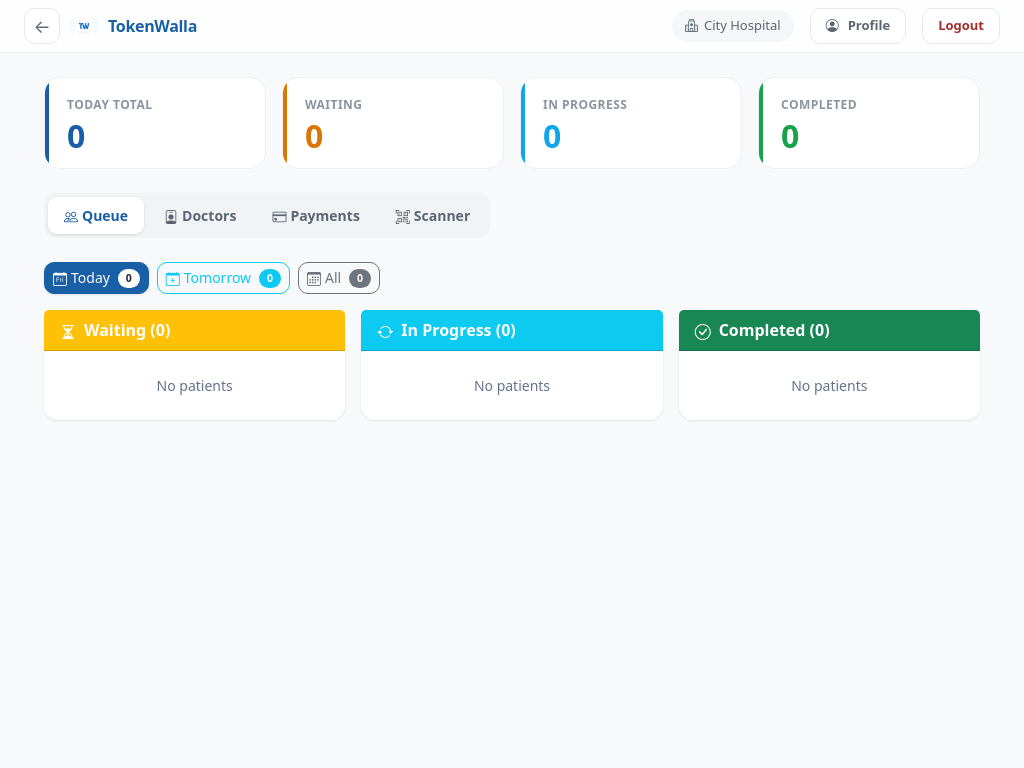
Test case: Clear sends delay_minutes 0 and is disabled when there is nothing to clear
Click the button "Doctors".
click(200, 216)  # box [148,197,252,234]
(page scrolled)
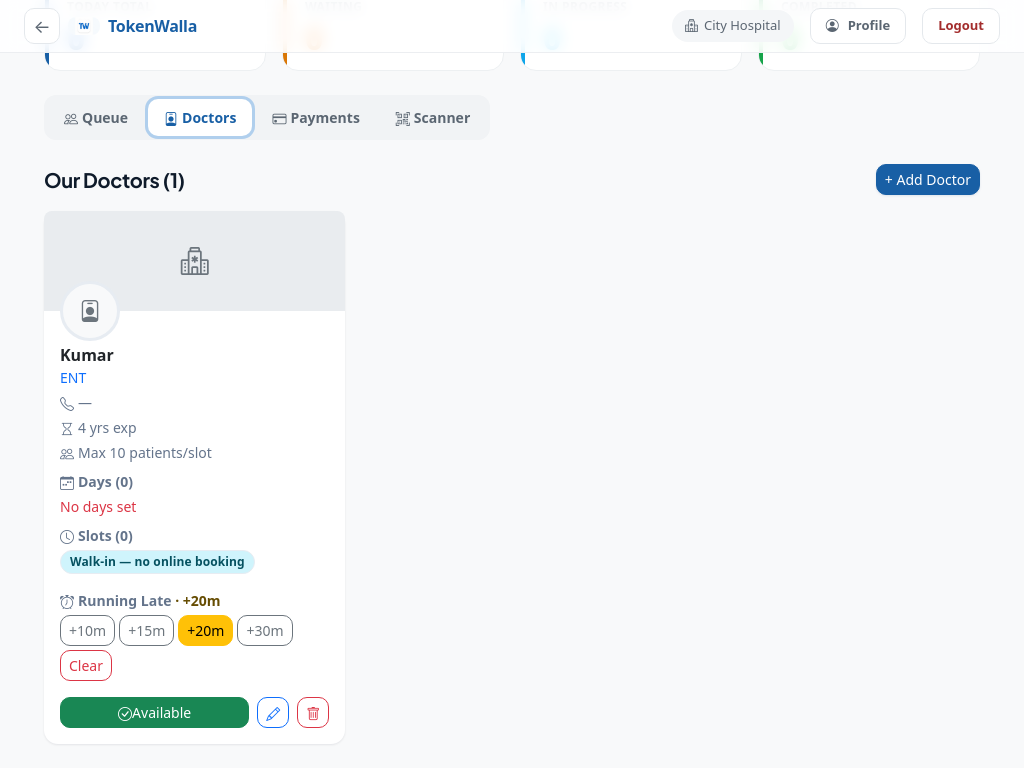
Now the button "Clear" is enabled
Click the button "Clear".
click(86, 665)  # box [60,650,112,681]
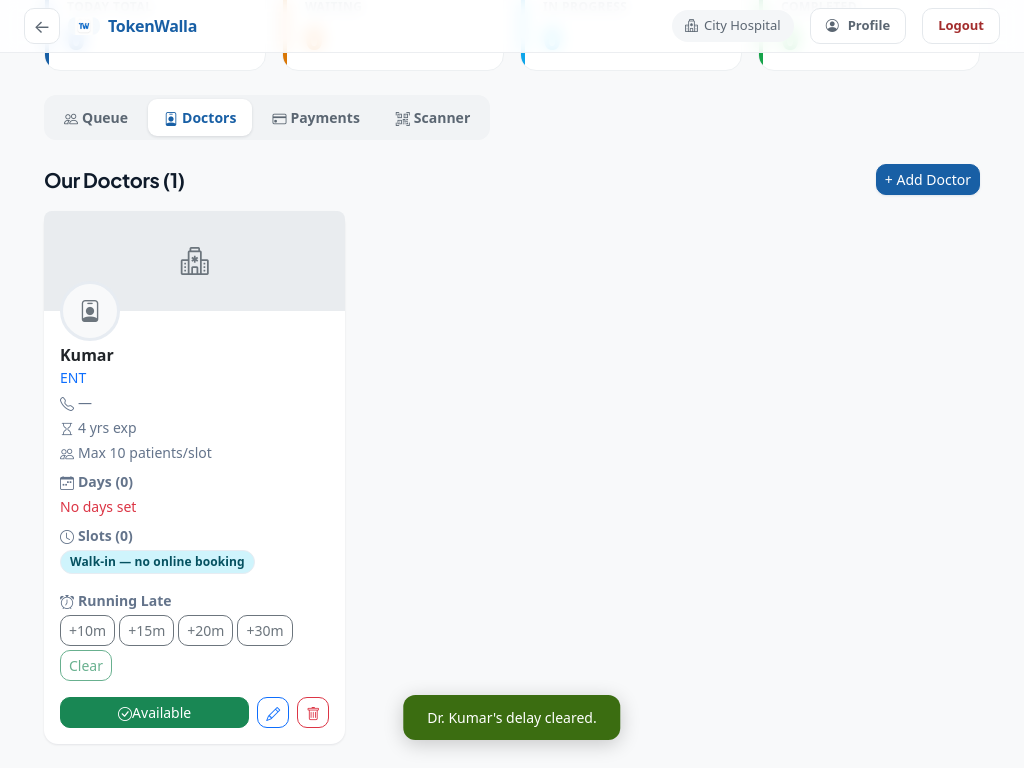
Now the text "Dr. Kumar's delay cleared." is shown, box [403,695,621,740]
Now the button "Clear" is disabled, box [60,650,112,681]
